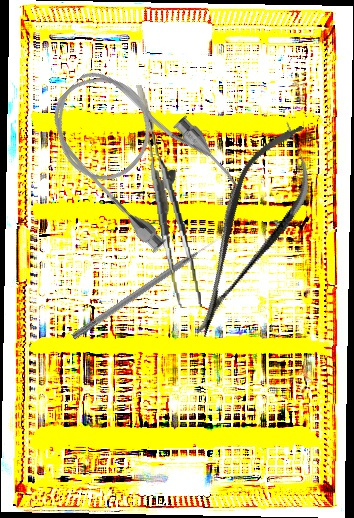Cannula: (28, 43, 247, 262)
Hook Surgical: (70, 234, 224, 341)
Micro Scissor: (166, 110, 334, 350)
Tissue Forceps: (136, 81, 202, 311)
